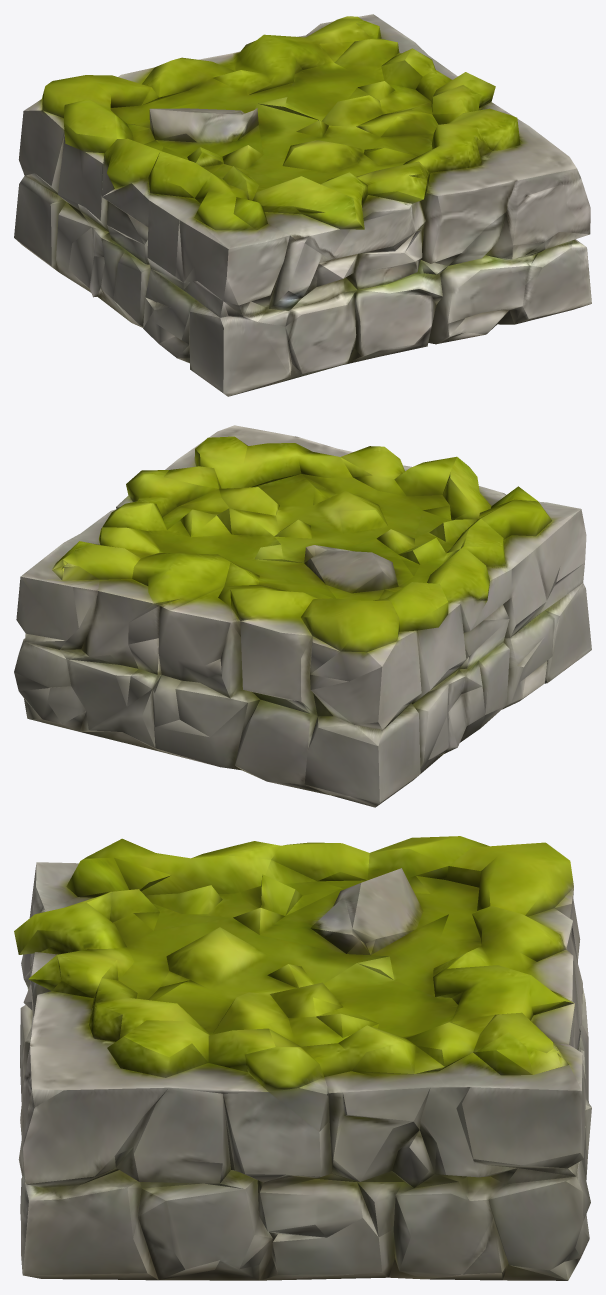
Rendered from towerLedge.glb.
3 renders of one model, top to bottom at view 1: azimuth 30°, elevation 25°; view 2: azimuth 150°, elevation 25°; view 3: azimuth 270°, elevation 25°, orthographic. The views are drawn at different scales.
Parts seen in each view (by area): view 1: model; view 2: model; view 3: model.
Boxes of the visible parts, x1,y1,x2,y2 form: model: (14,14,591,396); model: (14,425,591,807); model: (14,836,591,1280).
Bounding box in the file's own units: 1.88 × 0.8299 × 1.9.
1 material, 1 textured.
